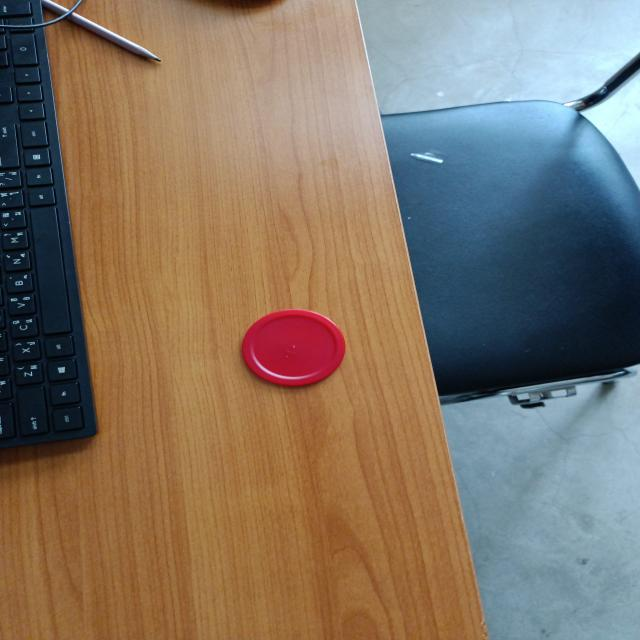chip: (240, 308, 347, 387)
